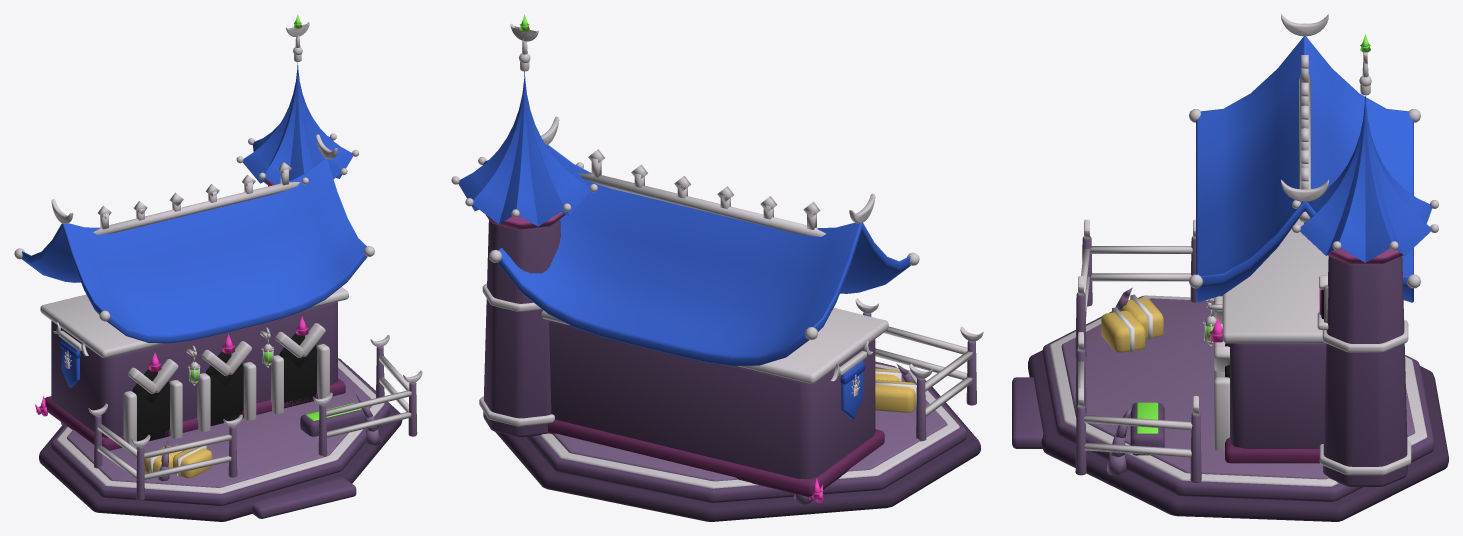
File: Stables.glb
3 views of the same model, side by side, from view 1: azimuth 30°, elevation 25°; view 2: azimuth 150°, elevation 25°; view 3: azimuth 270°, elevation 25° (orthographic). The views are drawn at different scales.
Visible parts, largest first — view 1: Stables; view 2: Stables; view 3: Stables.
Boxes of the visible parts, x1,y1,x2,y2 form: Stables: (14, 14, 422, 521); Stables: (451, 14, 983, 521); Stables: (1012, 14, 1448, 521).
Bounding box in the file's own units: 4.19 × 4.25 × 3.61.
